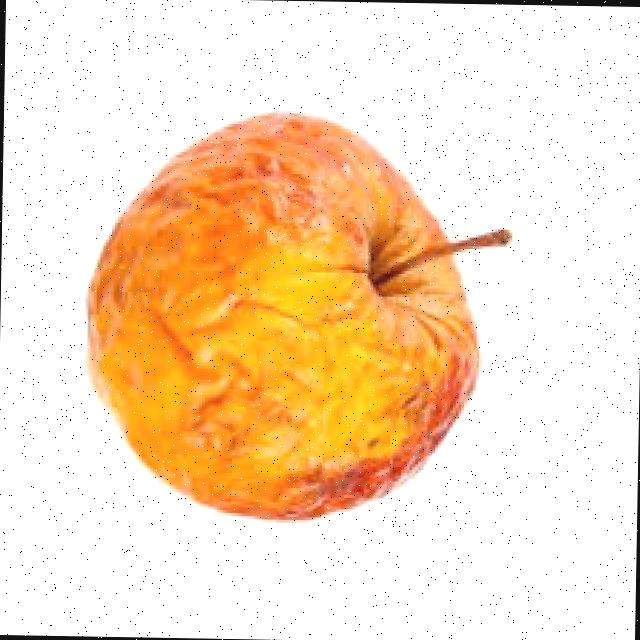overripe: (82, 102, 493, 530)
